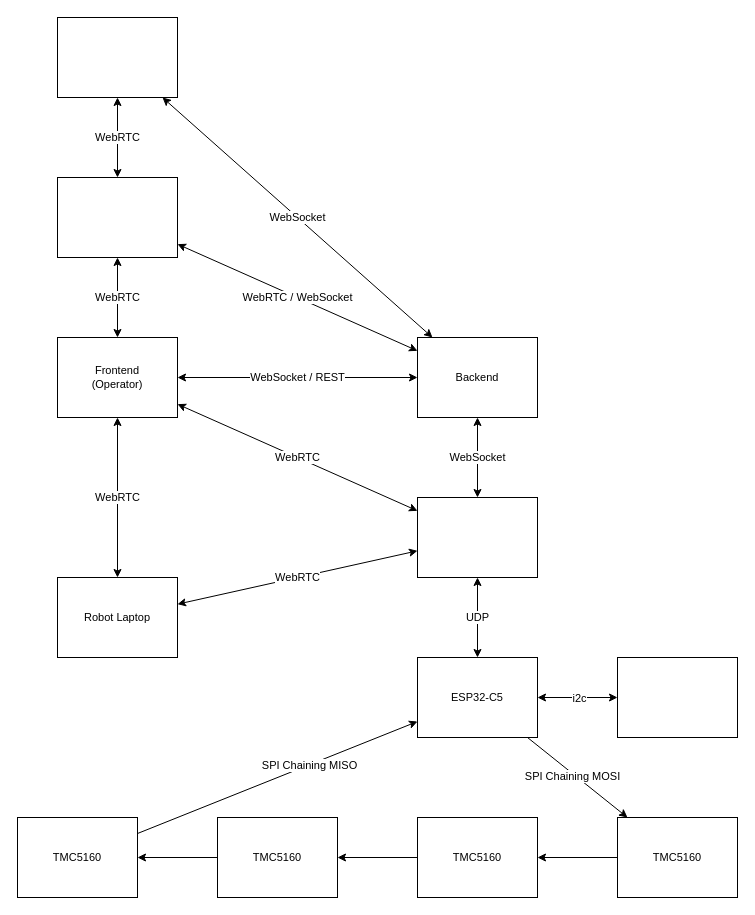
The diagram is 755 pixels wide and 915 high, and some of its shapes have lost their labels. Here are the shapes that lost their labels. From the top down, the box of each, then its label:
(56, 16, 178, 98): Frontend (Viewer)
(56, 176, 178, 258): Deathstar / WebRTC Video Mux
(416, 496, 538, 578): LLBE
(616, 656, 738, 738): INA228 BMIC
